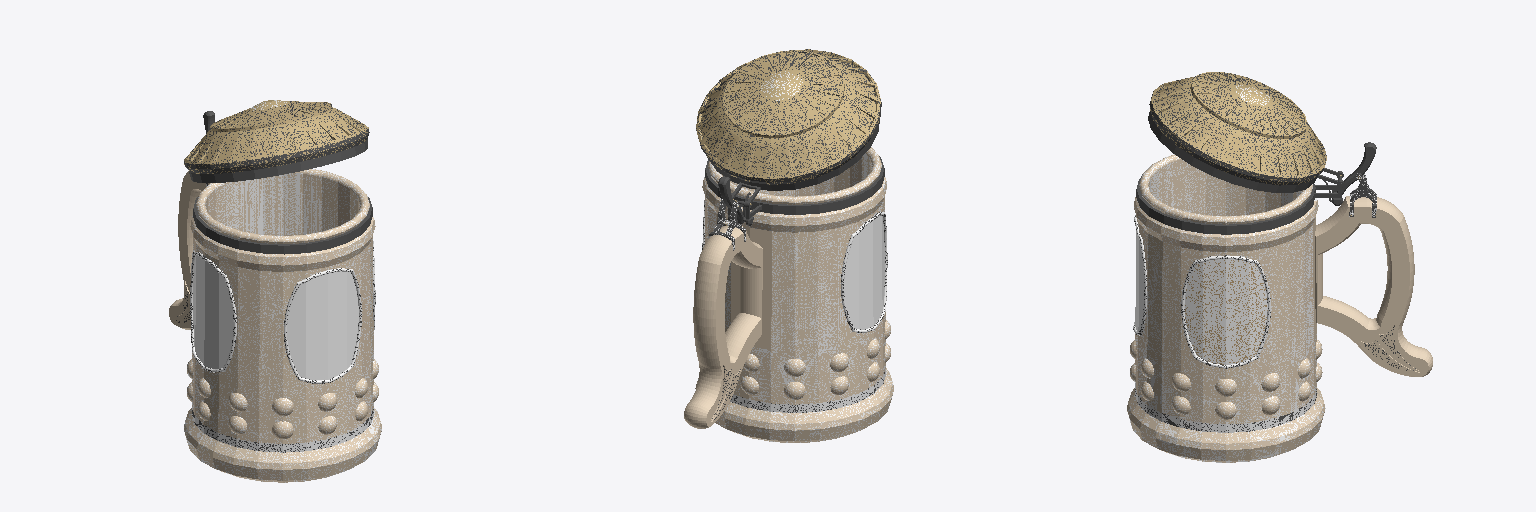
3 views of the same model, side by side, from view 1: azimuth 30°, elevation 25°; view 2: azimuth 150°, elevation 25°; view 3: azimuth 270°, elevation 25° (orthographic).
Parts seen in each view (by area): view 1: mesh38_mesh38-geometry, mesh23_mesh23-geometry, mesh25_mesh25-geometry, mesh2_mesh2-geometry, mesh31_mesh31-geometry, mesh34_mesh34-geometry, mesh39_mesh39-geometry, mesh33_mesh33-geometry, mesh5_mesh5-geometry, mesh37_mesh37-geometry, mesh3_mesh3-geometry, mesh1_mesh1-geometry (+1 smaller); view 2: mesh5_mesh5-geometry, mesh33_mesh33-geometry, mesh38_mesh38-geometry, mesh31_mesh31-geometry, mesh25_mesh25-geometry, mesh2_mesh2-geometry, mesh28_mesh28-geometry, mesh39_mesh39-geometry, mesh34_mesh34-geometry, mesh37_mesh37-geometry, mesh4_mesh4-geometry, mesh1_mesh1-geometry (+3 smaller); view 3: mesh20_mesh20-geometry, mesh38_mesh38-geometry, mesh5_mesh5-geometry, mesh2_mesh2-geometry, mesh31_mesh31-geometry, mesh33_mesh33-geometry, mesh39_mesh39-geometry, mesh23_mesh23-geometry, mesh34_mesh34-geometry, mesh29_mesh29-geometry, mesh37_mesh37-geometry, mesh3_mesh3-geometry (+3 smaller).
Part boxes in pixels (left/top/right/bottom): mesh38_mesh38-geometry: left=184, top=169, right=381, bottom=482; mesh23_mesh23-geometry: left=259, top=244, right=370, bottom=390; mesh25_mesh25-geometry: left=190, top=237, right=259, bottom=389; mesh2_mesh2-geometry: left=192, top=354, right=373, bottom=443; mesh31_mesh31-geometry: left=184, top=110, right=368, bottom=163; mesh34_mesh34-geometry: left=184, top=128, right=369, bottom=182; mesh39_mesh39-geometry: left=190, top=216, right=375, bottom=271; mesh33_mesh33-geometry: left=206, top=100, right=338, bottom=136; mesh5_mesh5-geometry: left=169, top=171, right=210, bottom=329; mesh37_mesh37-geometry: left=193, top=197, right=372, bottom=254; mesh3_mesh3-geometry: left=187, top=359, right=378, bottom=416; mesh1_mesh1-geometry: left=187, top=382, right=378, bottom=439; mesh5_mesh5-geometry: left=684, top=226, right=762, bottom=428; mesh33_mesh33-geometry: left=718, top=50, right=850, bottom=144; mesh38_mesh38-geometry: left=695, top=147, right=893, bottom=442; mesh31_mesh31-geometry: left=696, top=49, right=880, bottom=178; mesh25_mesh25-geometry: left=818, top=197, right=887, bottom=349; mesh2_mesh2-geometry: left=734, top=314, right=885, bottom=404; mesh28_mesh28-geometry: left=771, top=231, right=817, bottom=351; mesh39_mesh39-geometry: left=702, top=177, right=886, bottom=232; mesh34_mesh34-geometry: left=697, top=102, right=881, bottom=190; mesh37_mesh37-geometry: left=705, top=156, right=884, bottom=225; mesh4_mesh4-geometry: left=731, top=225, right=771, bottom=349; mesh1_mesh1-geometry: left=741, top=343, right=890, bottom=399; mesh20_mesh20-geometry: left=1162, top=241, right=1289, bottom=370; mesh38_mesh38-geometry: left=1127, top=154, right=1325, bottom=462; mesh5_mesh5-geometry: left=1315, top=196, right=1432, bottom=376; mesh2_mesh2-geometry: left=1135, top=334, right=1316, bottom=423; mesh31_mesh31-geometry: left=1151, top=76, right=1326, bottom=177; mesh33_mesh33-geometry: left=1184, top=72, right=1309, bottom=144; mesh39_mesh39-geometry: left=1134, top=197, right=1318, bottom=251; mesh23_mesh23-geometry: left=1133, top=215, right=1162, bottom=359; mesh34_mesh34-geometry: left=1148, top=91, right=1323, bottom=192; mesh29_mesh29-geometry: left=1290, top=225, right=1313, bottom=359; mesh37_mesh37-geometry: left=1136, top=176, right=1342, bottom=234; mesh3_mesh3-geometry: left=1130, top=340, right=1322, bottom=396.
Bounding box in the file's own units: 0.3784 × 0.7188 × 0.5832.
Materials: 9 (1 with a texture image).